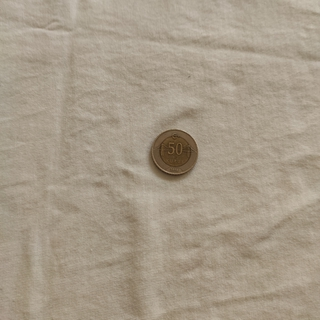50KURUS: (150, 127, 199, 176)
